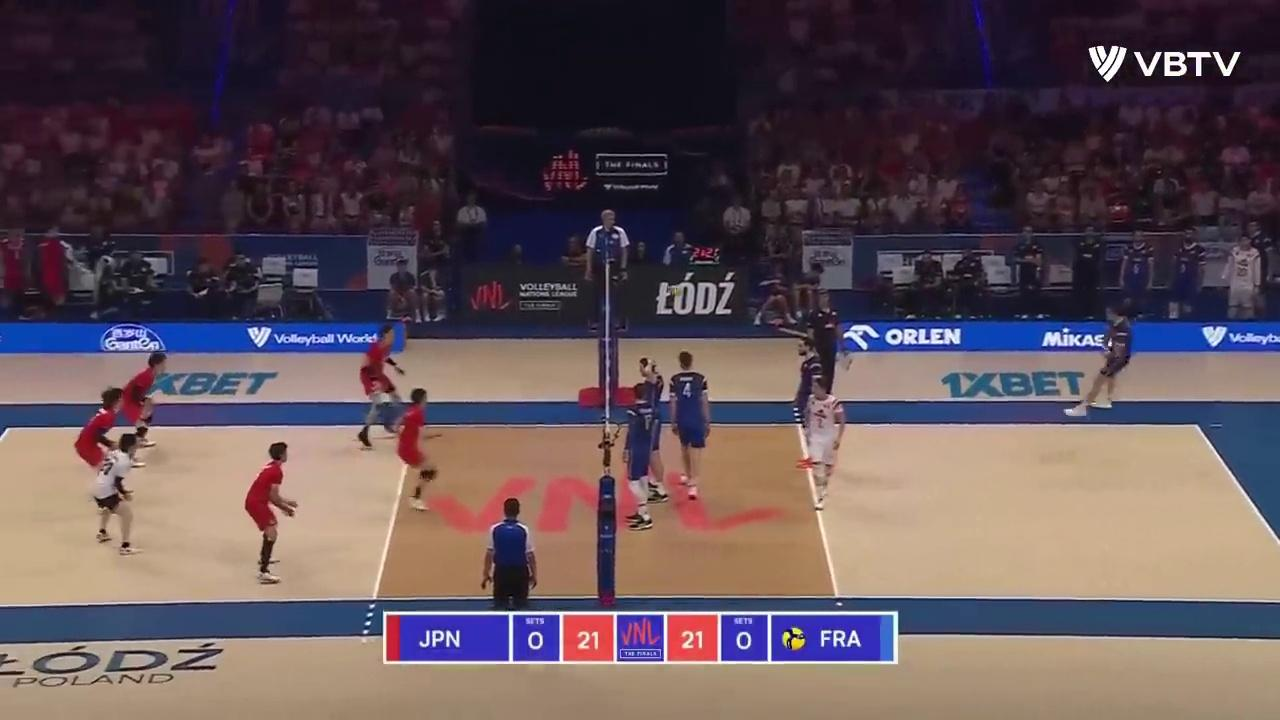ball: (668, 285, 681, 297)
